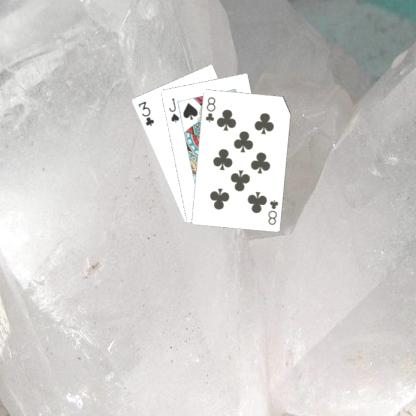3C: (135, 98, 155, 127)
8C: (203, 94, 217, 124), (265, 197, 279, 226)
JS: (166, 95, 180, 124)
